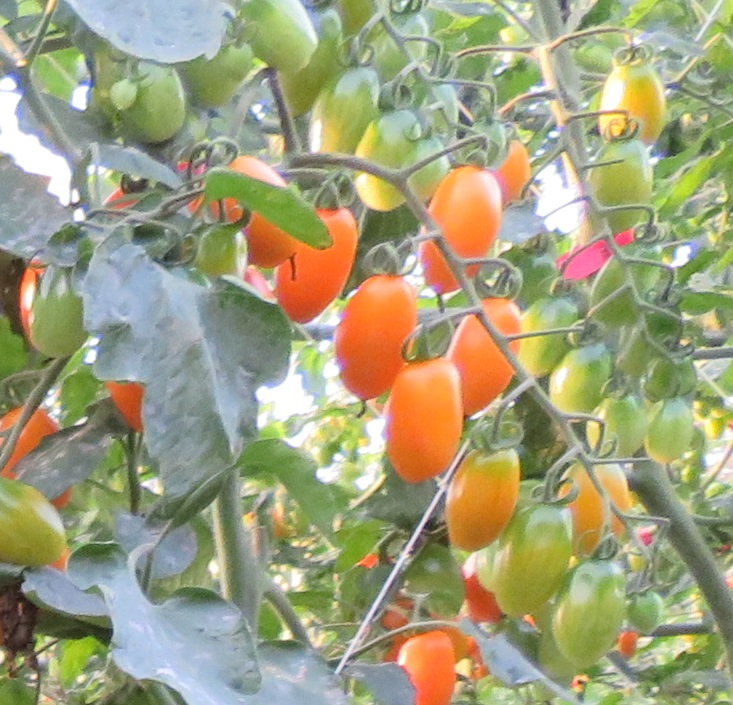green: (490, 498, 574, 621), (552, 557, 625, 667), (302, 61, 376, 158), (353, 108, 421, 210), (117, 61, 195, 145), (1, 485, 72, 574), (592, 129, 649, 235), (548, 333, 613, 423), (516, 292, 580, 382), (600, 61, 664, 147), (240, 1, 316, 70), (30, 264, 88, 353), (583, 390, 645, 456), (642, 394, 697, 463), (199, 223, 248, 285), (406, 136, 448, 203), (640, 354, 682, 395), (627, 592, 665, 637)
orange: (421, 158, 507, 292), (387, 350, 463, 487), (338, 271, 418, 400), (440, 431, 523, 554), (280, 199, 362, 321), (458, 300, 522, 416), (562, 466, 631, 550), (395, 627, 457, 705), (1, 405, 58, 475), (499, 138, 534, 207), (106, 382, 145, 437), (616, 631, 639, 658)
